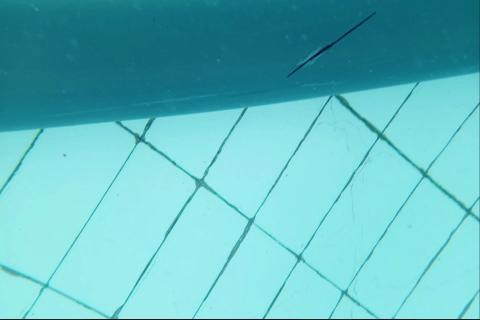keretakan: (286, 10, 378, 78)
